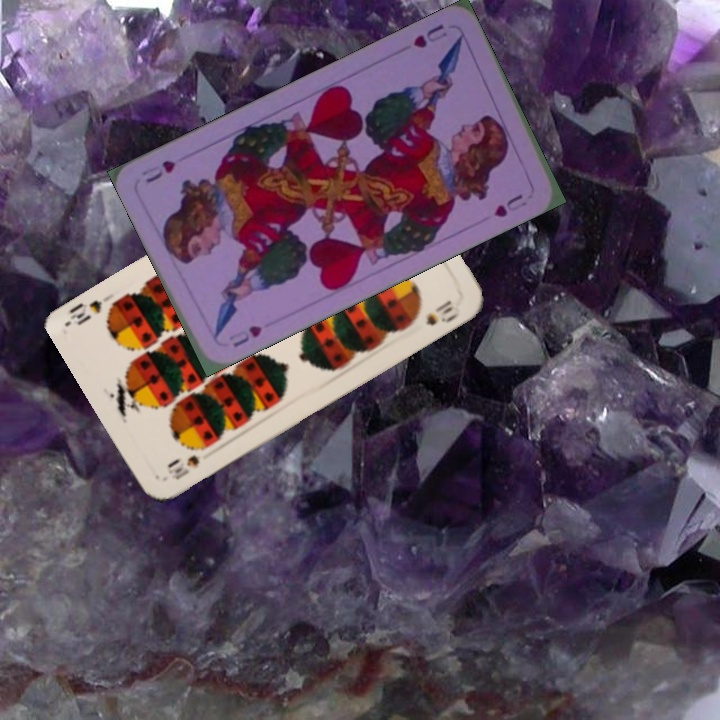HU: (224, 321, 265, 350), (409, 20, 447, 51)
S10: (163, 442, 210, 483)
